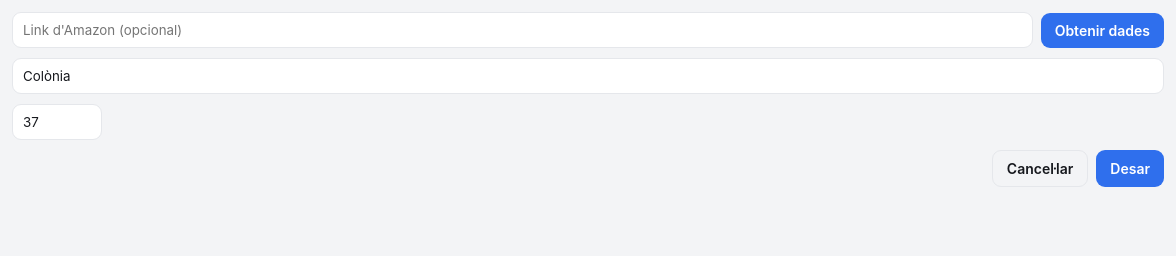
Scenario: EntryEditForm › shows an error message when the link preview fails
Type "https://amazon.es/dp/X" into the field with placeholder "Link d'Amazon (opcional)".
click(522, 30); type("https://amazon.es/dp/X")  # box [12,12,1033,48]
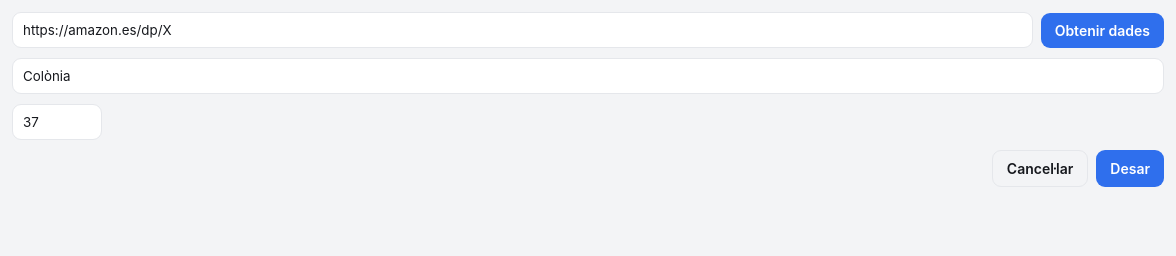
Click the button "Obtenir dades".
click(1102, 30)  # box [1041,12,1164,48]
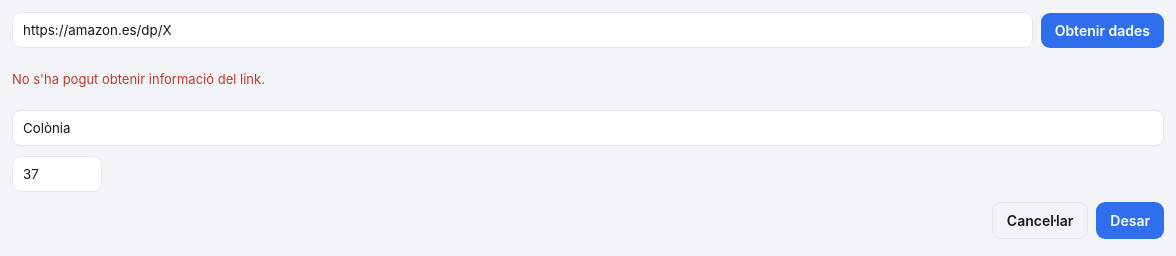
Expected: the text "No s'ha pogut obtenir informació del link." is shown, [12,71,265,87]
